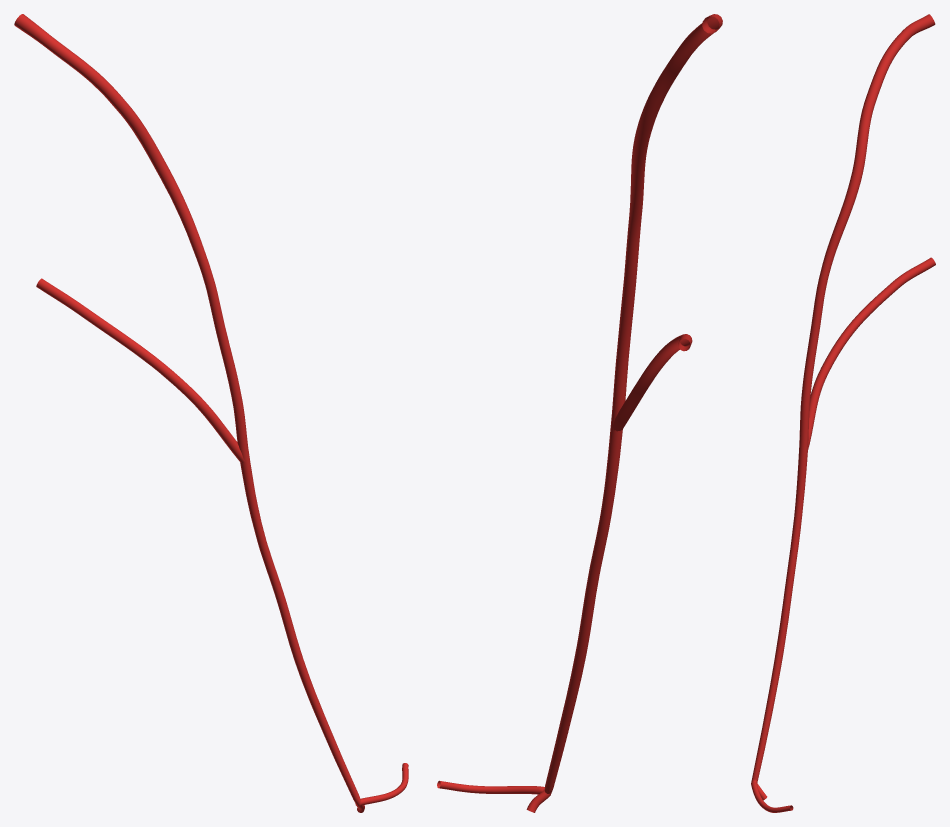
The model's file is circulatorio-median-antebrachial-vein-l.glb.
3 views of the same model, side by side, from view 1: azimuth 30°, elevation 25°; view 2: azimuth 150°, elevation 25°; view 3: azimuth 270°, elevation 25° (orthographic). The views are drawn at different scales.
Parts seen in each view (by area): view 1: Median antebrachial vein.l; view 2: Median antebrachial vein.l; view 3: Median antebrachial vein.l.
Boxes of the visible parts, x1,y1,x2,y2 form: Median antebrachial vein.l: [14, 14, 408, 812]; Median antebrachial vein.l: [437, 14, 722, 812]; Median antebrachial vein.l: [751, 14, 935, 812].
Bounding box in the file's own units: 0.0866 × 0.2079 × 0.051.
